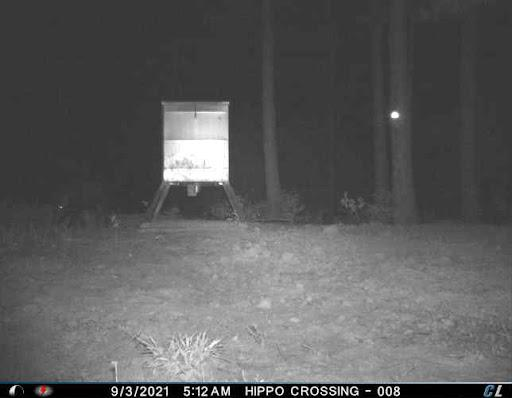Hog: (50, 164, 133, 233)
